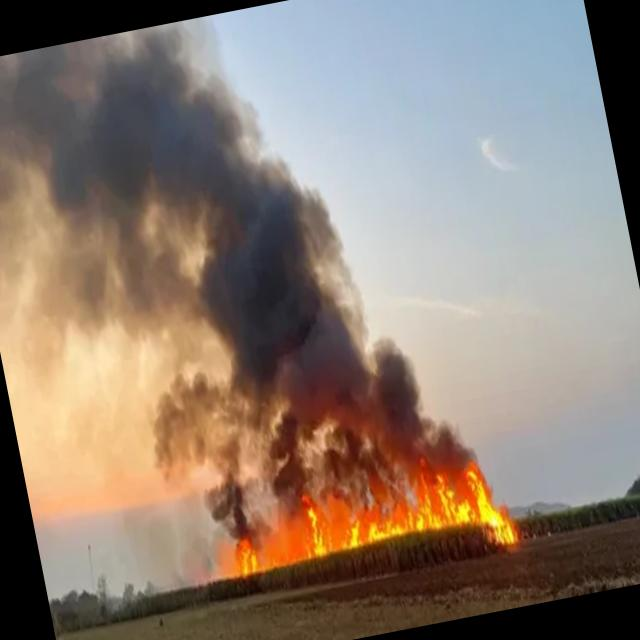Smoke: (74, 0, 481, 546)
